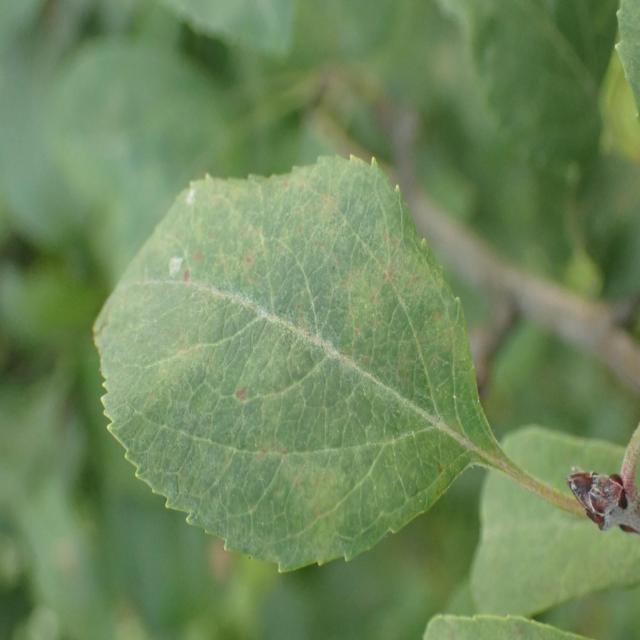scab: (128, 142, 485, 568)
